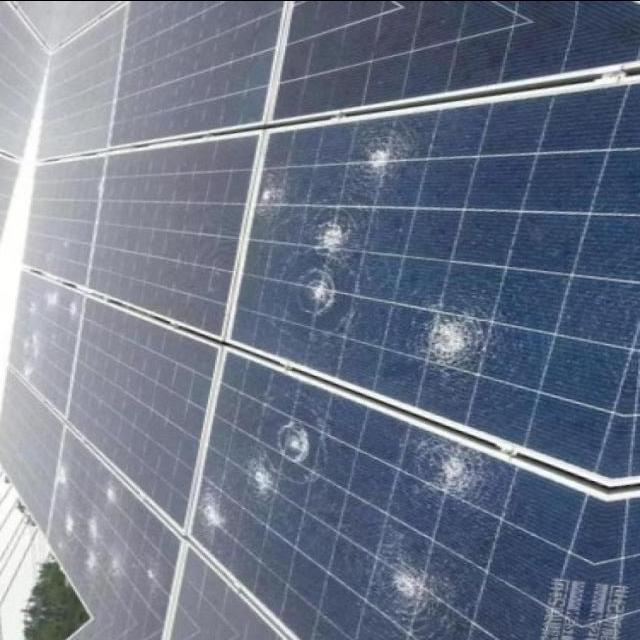cracked: (228, 74, 640, 458), (186, 364, 616, 640)
